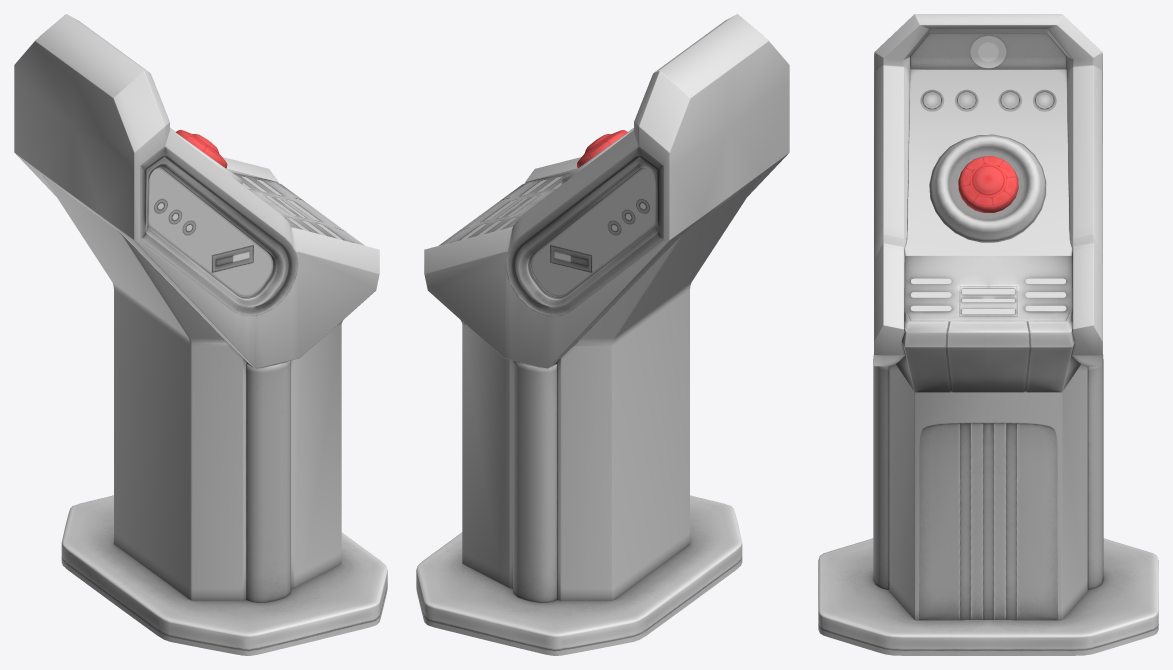
The model's file is SM_ControlPanel01.FBX.
3 views of the same model, side by side, from view 1: azimuth 30°, elevation 25°; view 2: azimuth 150°, elevation 25°; view 3: azimuth 270°, elevation 25° (orthographic). The views are drawn at different scales.
Visible parts, largest first — view 1: SM_ControlPanel01; view 2: SM_ControlPanel01; view 3: SM_ControlPanel01.
Part boxes in pixels (left/top/right/bottom): SM_ControlPanel01: left=14, top=14, right=387, bottom=655; SM_ControlPanel01: left=416, top=14, right=789, bottom=655; SM_ControlPanel01: left=818, top=14, right=1158, bottom=655.
Size of what is drawn, in the model's own units: 63.51 by 75 by 130.
